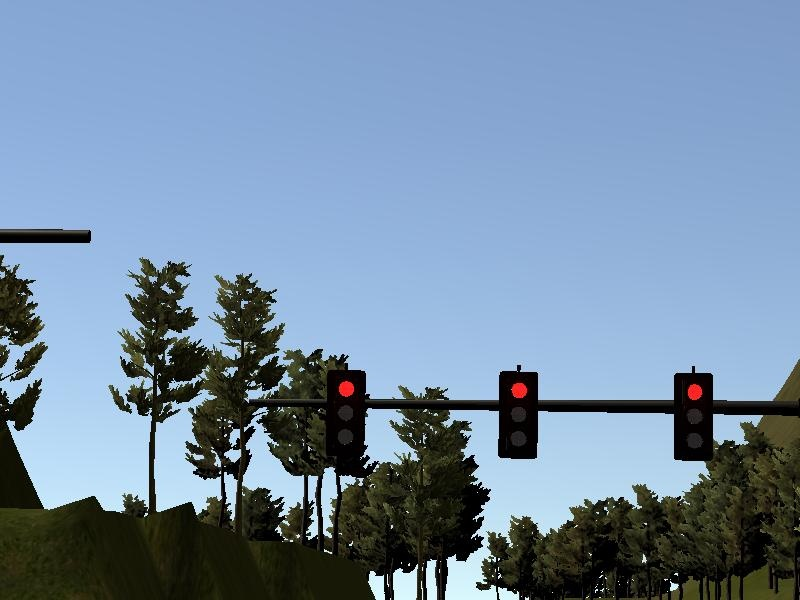red: (321, 367, 371, 470), (493, 364, 542, 463), (668, 367, 716, 463)
